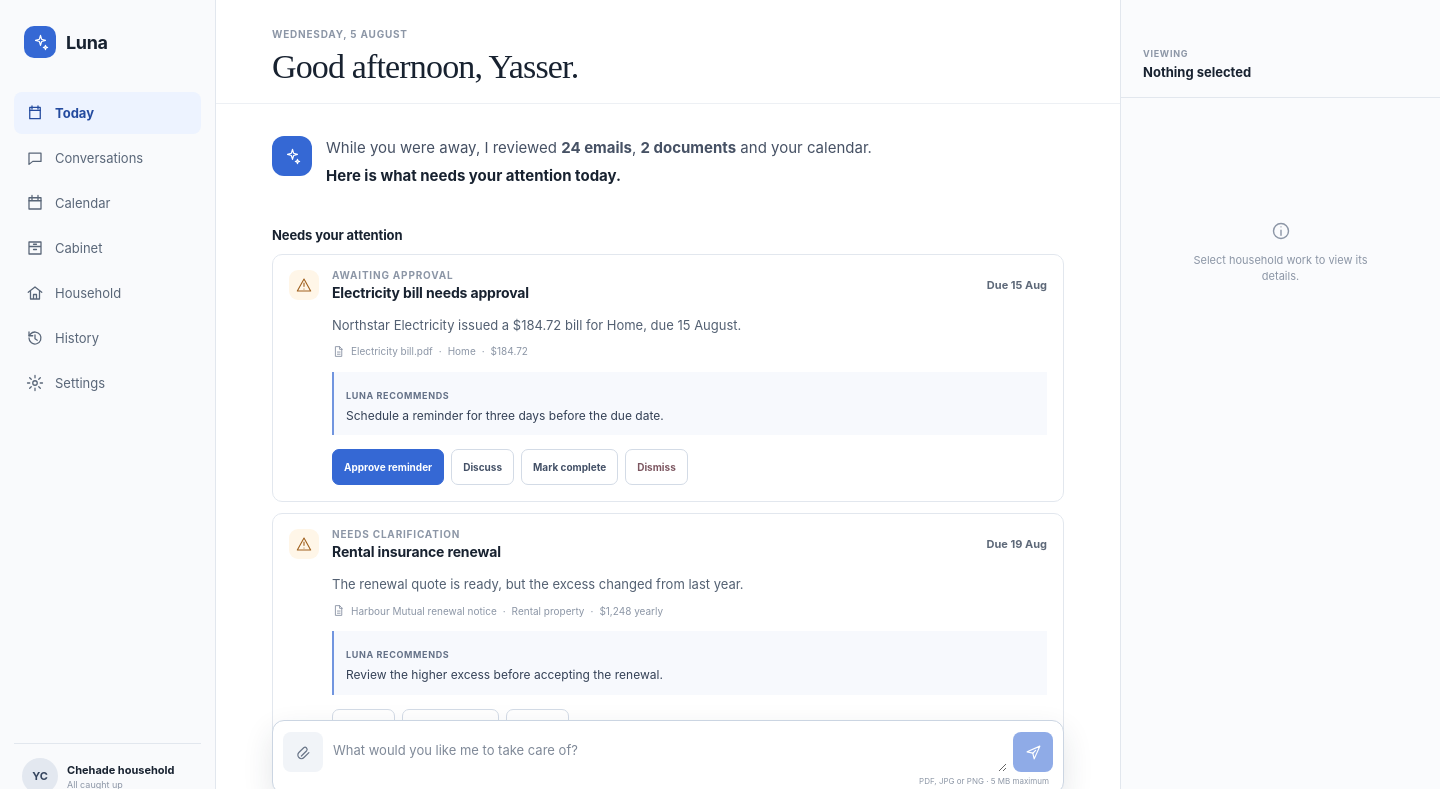
Test: production Today route › applies an existing fact correction through conversation without duplicating work
Step 1. Type "That's for the rental property." into the text box named "Instruction for Luna" → [668, 751], box [329,730,1007,772]
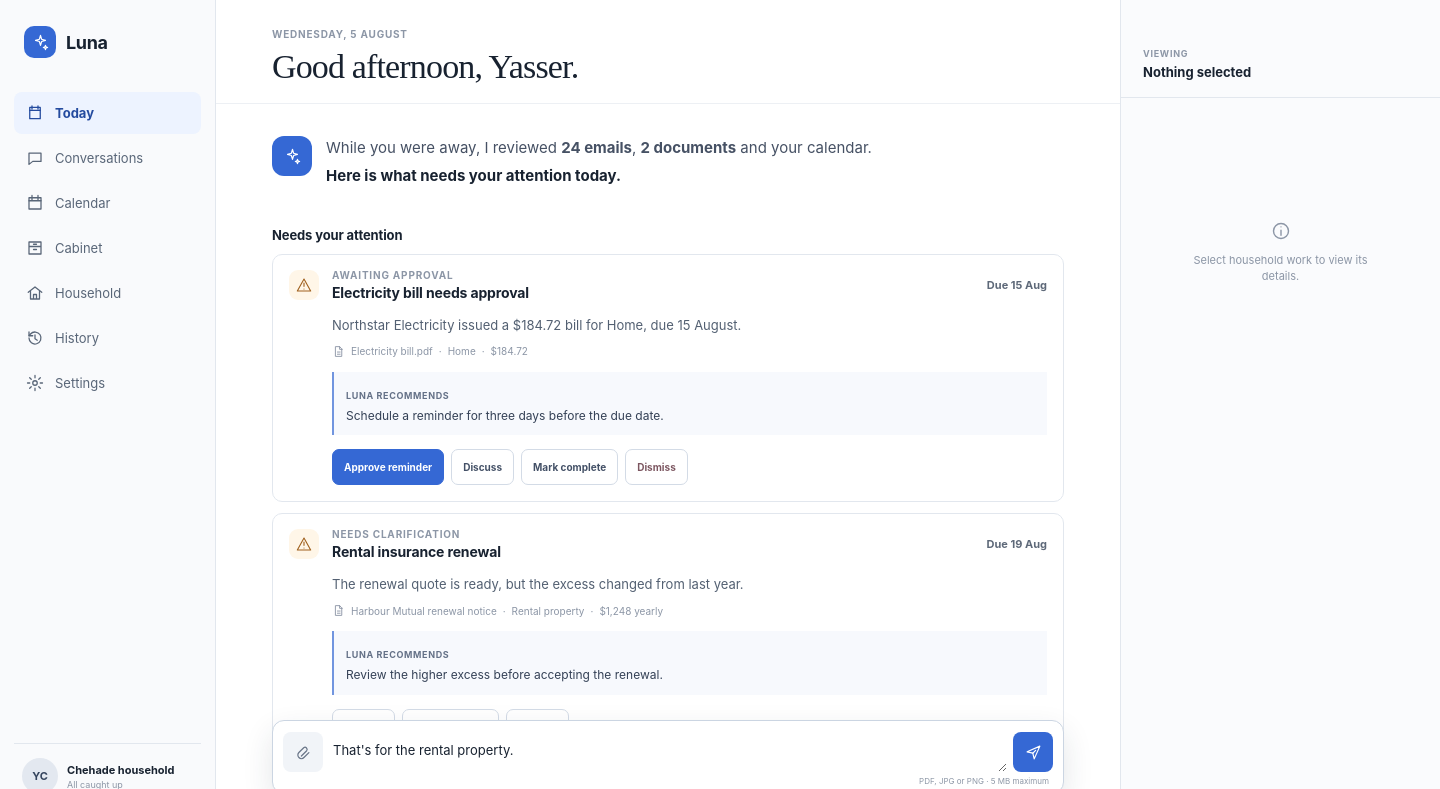
Step 2. Click the button named "Send instruction" → [1033, 752], box [1013,732,1053,772]
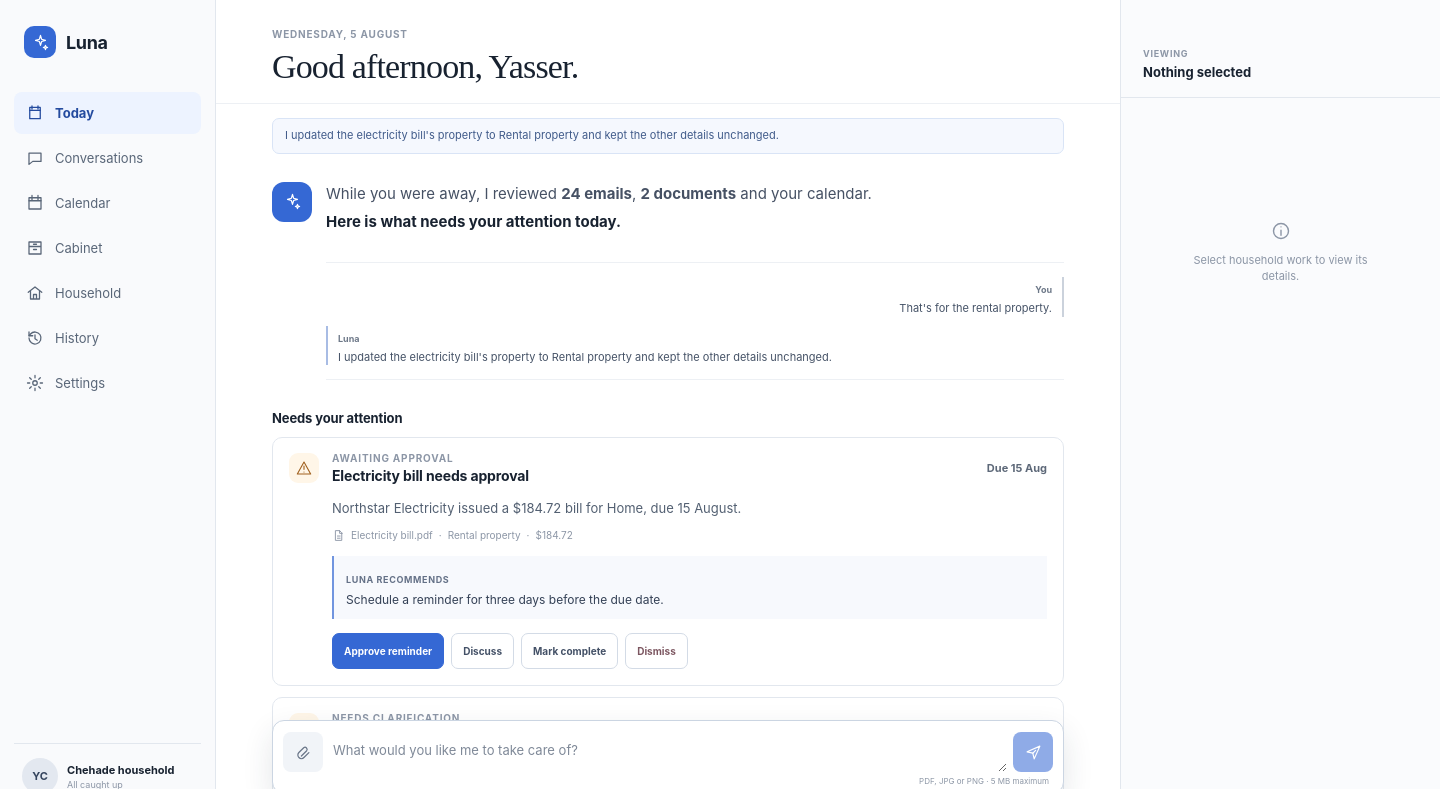
Step 3. Click the button with aria-label "Open Electricity bill needs approval" → [393, 458], box [273,438,1063,498]
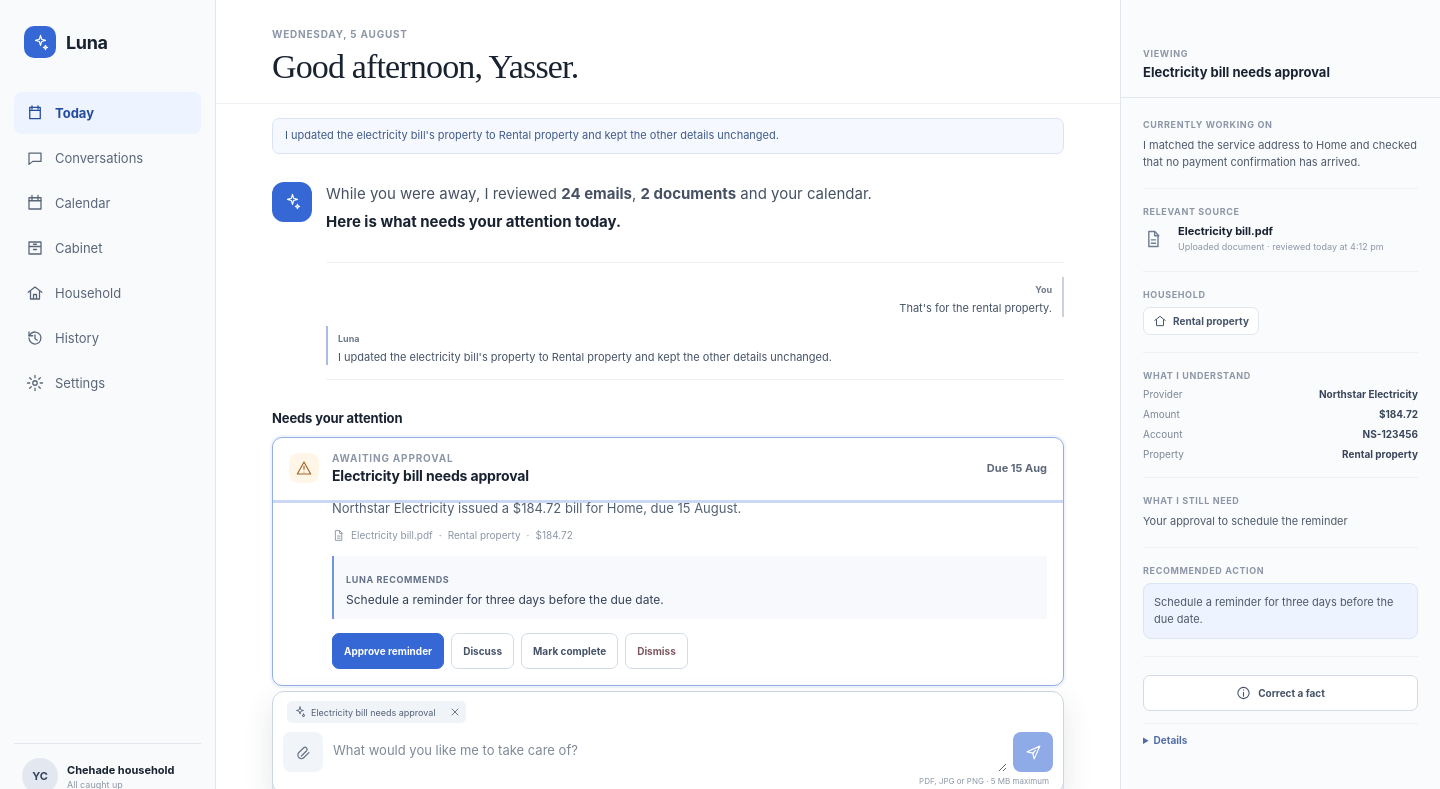
Check: the number of buttons named "Open Electricity bill needs approval" is 1, box [273,438,1063,498]
Check: the text "Rental property" is shown, box [1143,307,1259,335]
